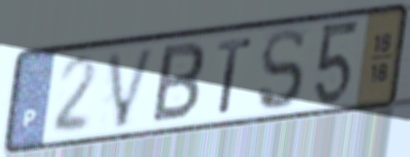2: (50, 52, 100, 136)
5: (312, 19, 362, 108)
B: (148, 39, 207, 127)
S: (254, 25, 307, 115)
T: (215, 34, 254, 116)
V: (105, 43, 159, 132)
